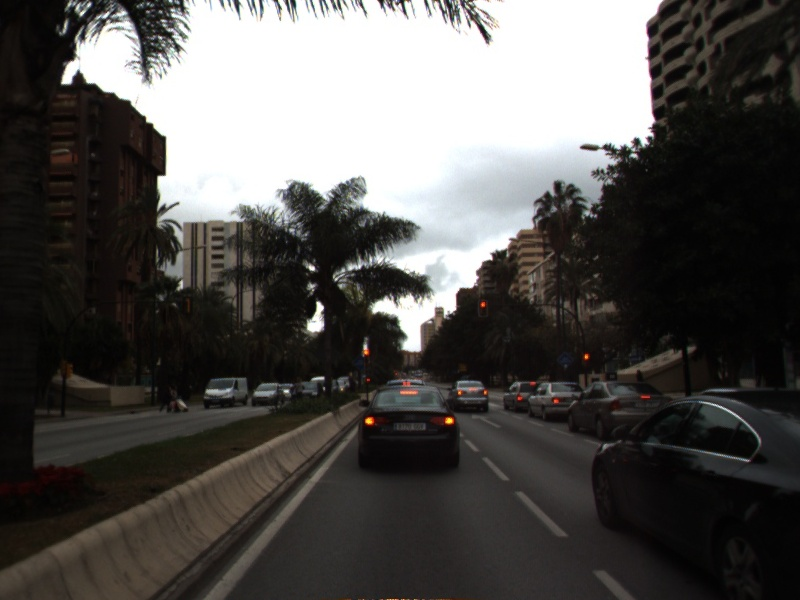STRAIGHT: (469, 411, 504, 430)
